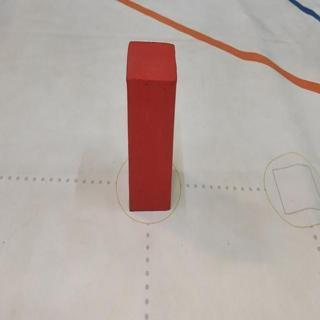redbox: (127, 42, 174, 213)
